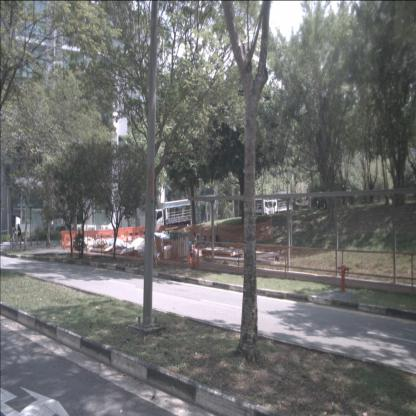human-pedestrian-adult: (12, 224, 16, 246), (18, 224, 22, 245)
movable_object-barrier: (60, 230, 76, 248), (76, 230, 98, 242), (127, 226, 141, 241), (113, 228, 127, 242), (98, 228, 113, 241), (64, 234, 74, 253), (140, 226, 148, 241)
movable_object-trafficcone: (191, 245, 197, 268), (195, 248, 200, 266), (187, 245, 191, 264)
vehicle-truck: (152, 199, 192, 234), (241, 198, 270, 220), (268, 192, 293, 216)
